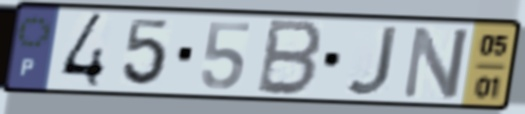4: (57, 10, 109, 91)
5: (117, 17, 175, 88), (198, 20, 254, 92)
B: (253, 16, 328, 99)
J: (343, 24, 402, 98)
N: (399, 23, 473, 101)
